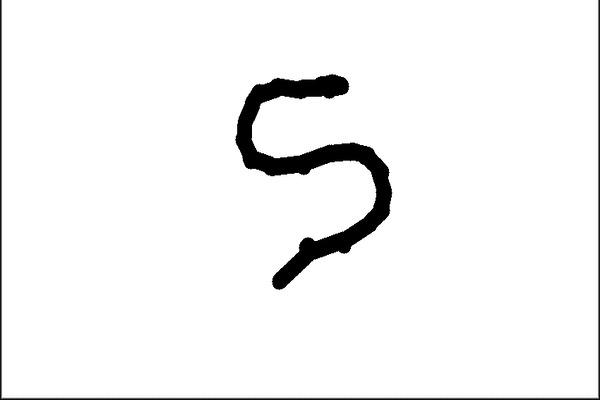S: (214, 60, 398, 291)
